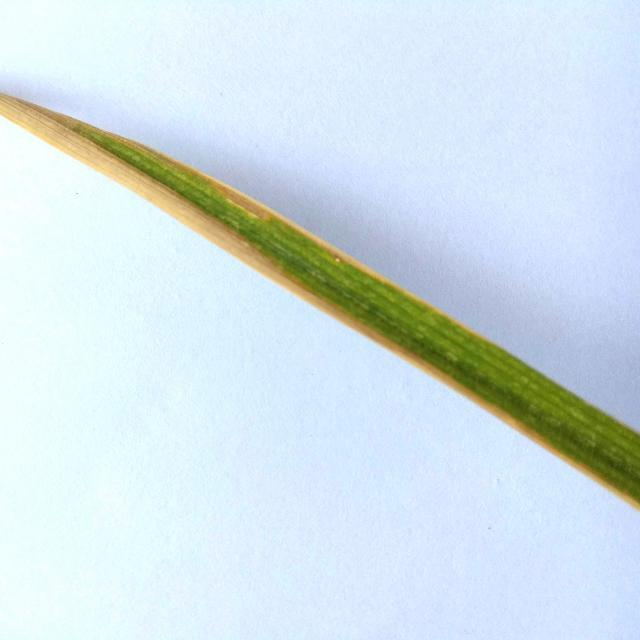Blast: (332, 252, 347, 270)
